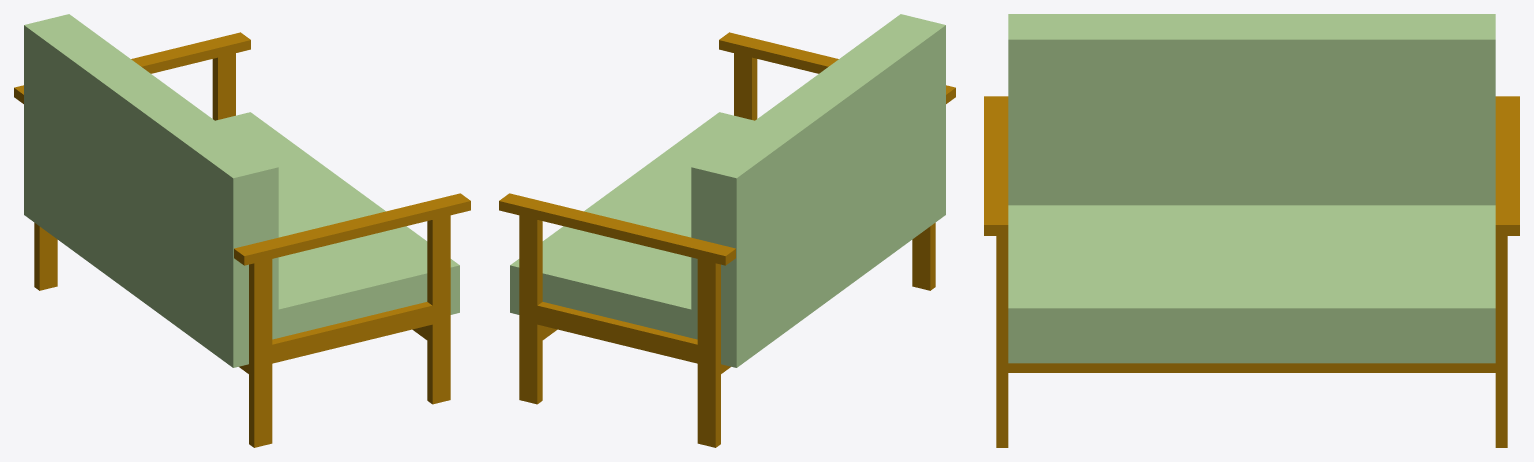
The model's file is armchair_2_query.glb.
The picture shows the model from 3 angles, left to right: view 1: azimuth 30°, elevation 25°; view 2: azimuth 150°, elevation 25°; view 3: azimuth 270°, elevation 25°; orthographic projection. The views are drawn at different scales.
Visible parts, largest first — view 1: object 10, object 1, object 2, object 5, object 3, object 4, object 6, object 7, object 9; view 2: object 10, object 1, object 6, object 9, object 7, object 8, object 2, object 3, object 5; view 3: object 10, object 1, Cube, object 2, object 6, object 3, object 7.
Boxes of the visible parts, left/top/right/bottom form: object 10: left=24, top=14, right=278, bottom=320; object 1: left=24, top=112, right=459, bottom=367; object 2: left=234, top=193, right=470, bottom=265; object 5: left=249, top=259, right=272, bottom=447; object 3: left=427, top=215, right=450, bottom=404; object 4: left=272, top=302, right=432, bottom=363; object 6: left=14, top=32, right=250, bottom=103; object 7: left=212, top=53, right=235, bottom=120; object 9: left=34, top=222, right=57, bottom=290; object 10: left=691, top=14, right=945, bottom=320; object 1: left=510, top=112, right=945, bottom=367; object 6: left=499, top=193, right=735, bottom=265; object 9: left=697, top=259, right=720, bottom=447; object 7: left=519, top=215, right=542, bottom=404; object 8: left=537, top=302, right=697, bottom=363; object 2: left=719, top=32, right=955, bottom=103; object 3: left=734, top=53, right=757, bottom=120; object 5: left=912, top=222, right=935, bottom=290; object 10: left=1008, top=14, right=1495, bottom=205; object 1: left=1008, top=205, right=1495, bottom=363; Cube: left=1008, top=363, right=1495, bottom=372; object 2: left=984, top=96, right=1008, bottom=235; object 6: left=1495, top=96, right=1519, bottom=235; object 3: left=996, top=236, right=1008, bottom=447; object 7: left=1495, top=236, right=1507, bottom=447.
Size of the model in its own units: 0.7519 by 0.8526 by 1.32.
